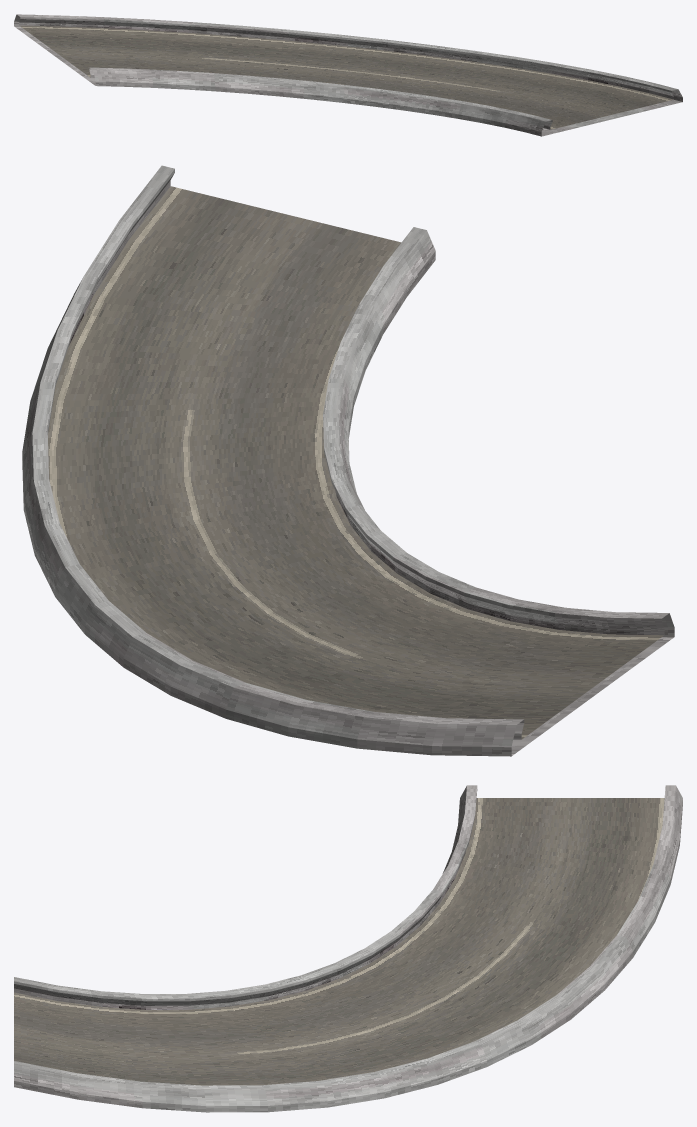
File: road-Turn-BiSlopeDown-BiSlopeUp-Even-Left-Size3.glb
3 views of the same model, one above another, from view 1: azimuth 30°, elevation 25°; view 2: azimuth 150°, elevation 25°; view 3: azimuth 270°, elevation 25° (orthographic). The views are drawn at different scales.
Visible parts, largest first — view 1: road-Turn-BiSlopeDown-BiSlopeUp-Even-Left-Size3; view 2: road-Turn-BiSlopeDown-BiSlopeUp-Even-Left-Size3; view 3: road-Turn-BiSlopeDown-BiSlopeUp-Even-Left-Size3.
Part boxes in pixels (x1,y1,x2,y2): road-Turn-BiSlopeDown-BiSlopeUp-Even-Left-Size3: (14,14,682,136); road-Turn-BiSlopeDown-BiSlopeUp-Even-Left-Size3: (22,165,674,756); road-Turn-BiSlopeDown-BiSlopeUp-Even-Left-Size3: (14,785,682,1112).
Size of the model in its own units: 3 by 0.4043 by 3.
2 materials, 2 textured.
